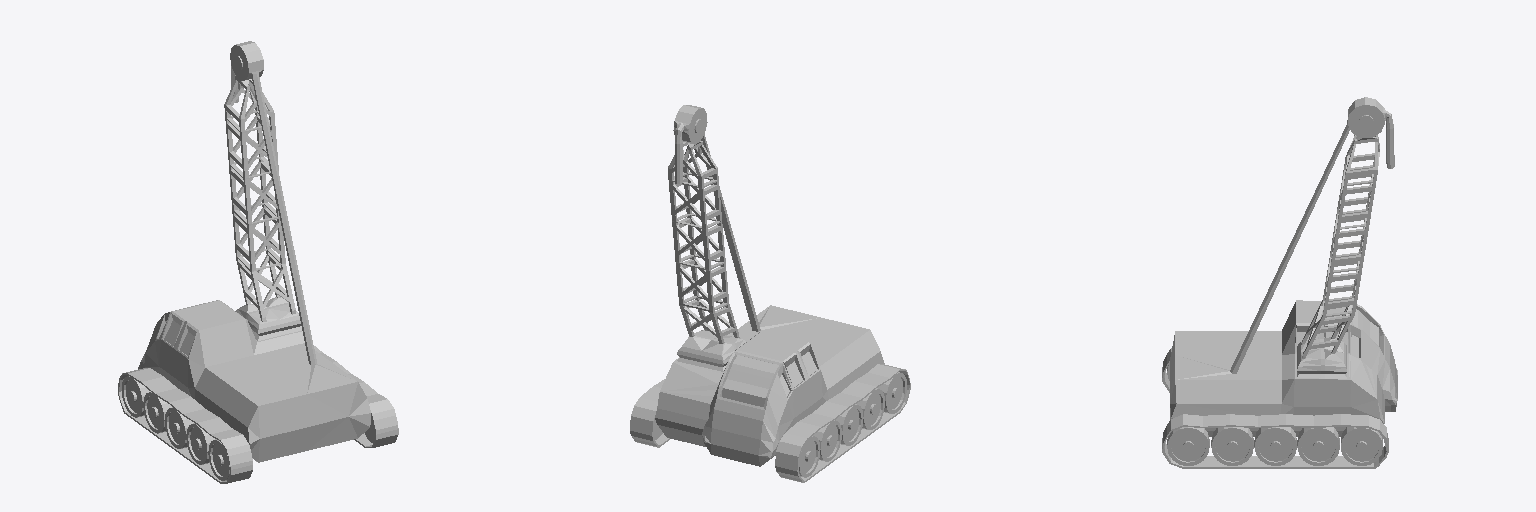
The model's file is Wrecking_Ball_2.obj.
3 views of the same model, side by side, from view 1: azimuth 30°, elevation 25°; view 2: azimuth 150°, elevation 25°; view 3: azimuth 270°, elevation 25° (orthographic).
Visible parts, largest first — view 1: Cube.003; view 2: Cube.003; view 3: Cube.003.
Part boxes in pixels (x1,y1,x2,y2): Cube.003: (118,41,398,483); Cube.003: (630,105,910,482); Cube.003: (1162,97,1397,468).
Size of the model in its own units: 2.49 by 4.88 by 3.03.